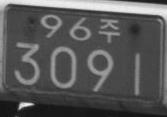0: (49, 45, 77, 89)
1: (124, 53, 151, 96)
3: (14, 40, 40, 86)
6: (69, 17, 92, 42)
9: (86, 48, 114, 92), (40, 13, 63, 38)
주: (98, 18, 119, 43)
